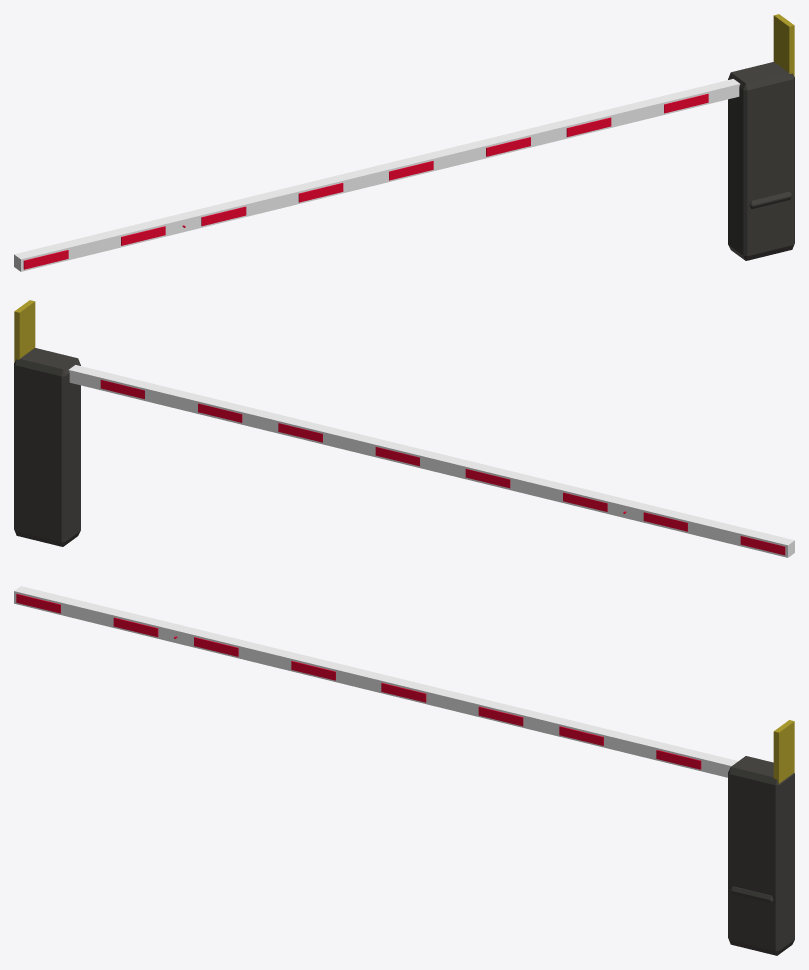
Rendered from alt. geç.fbx.
3 renders of one model, top to bottom at view 1: azimuth 30°, elevation 25°; view 2: azimuth 150°, elevation 25°; view 3: azimuth 330°, elevation 25°, orthographic.
Visible parts, largest first — view 1: Object_12.014, Object_68, Object_8; view 2: Object_12.014, Object_68, Object_8; view 3: Object_12.014, Object_68, Object_8.
Part boxes in pixels (left/top/right/bottom): Object_12.014: left=14, top=79, right=740, bottom=271; Object_68: left=728, top=62, right=794, bottom=260; Object_8: left=773, top=14, right=794, bottom=76; Object_12.014: left=68, top=365, right=794, bottom=557; Object_68: left=14, top=348, right=80, bottom=546; Object_8: left=14, top=300, right=35, bottom=362; Object_12.014: left=14, top=586, right=738, bottom=777; Object_68: left=728, top=756, right=794, bottom=955; Object_8: left=773, top=720, right=794, bottom=784.
Bounding box in the file's own units: 154 × 42.79 × 6.94.
